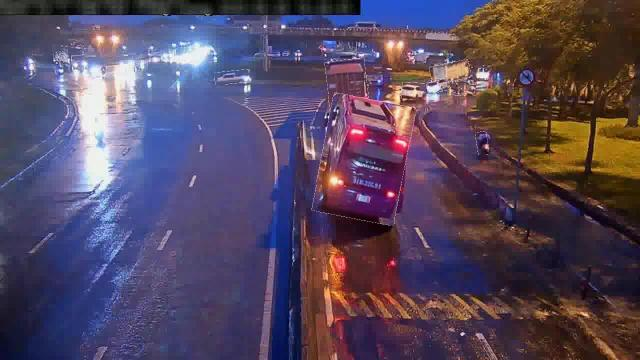Bike: (90, 116, 106, 144), (476, 131, 488, 155)
Bus: (317, 96, 411, 224)
Car: (214, 70, 250, 84), (402, 83, 426, 101), (426, 80, 449, 93)
Truck: (327, 59, 369, 119), (430, 61, 470, 83)
